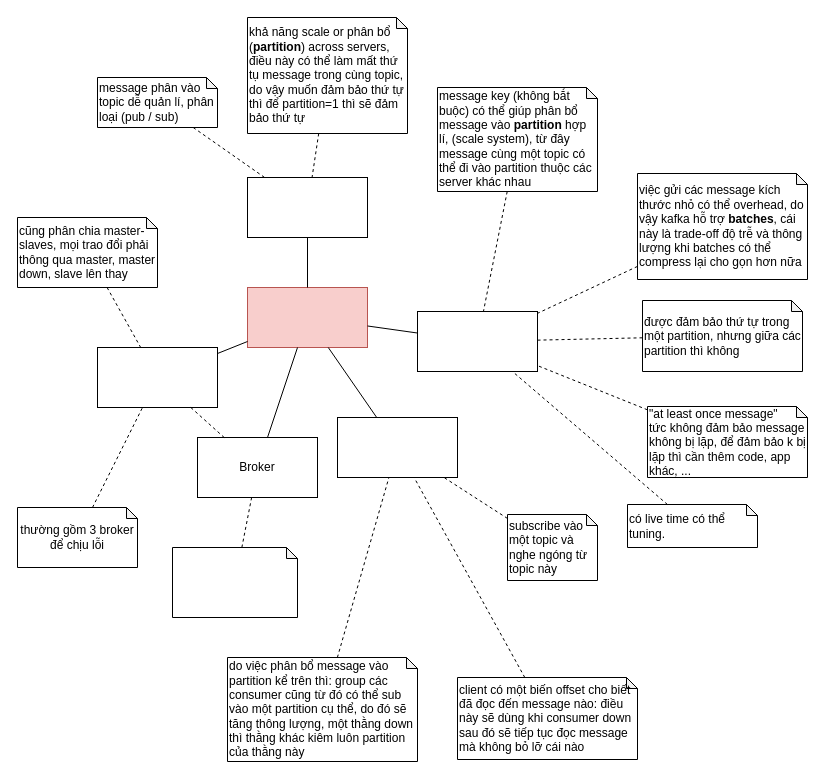
Some shapes in this 825 by 779 pixel diagram are drawn without their labels. The shapes that lost their labels are listed below. From the top down, each one's centre as x and y in pixels, then its label:
(307,207): Topic
(307,317): architecture
(477,341): Message
(157,377): Cluster
(397,447): Consumer
(235,582): nhận từ producer, gửi, hoặc response fetch request cho consumer
